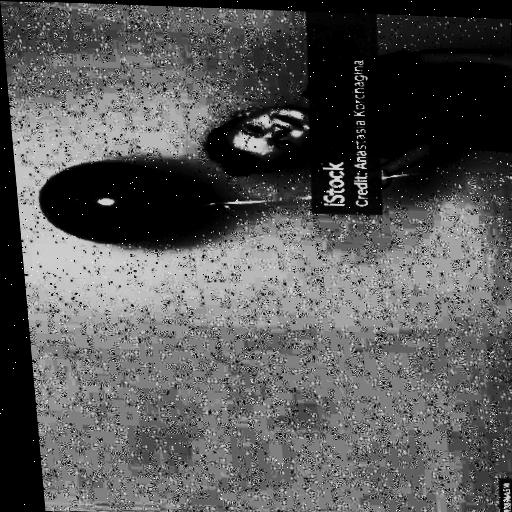balloon: (23, 154, 224, 250)
